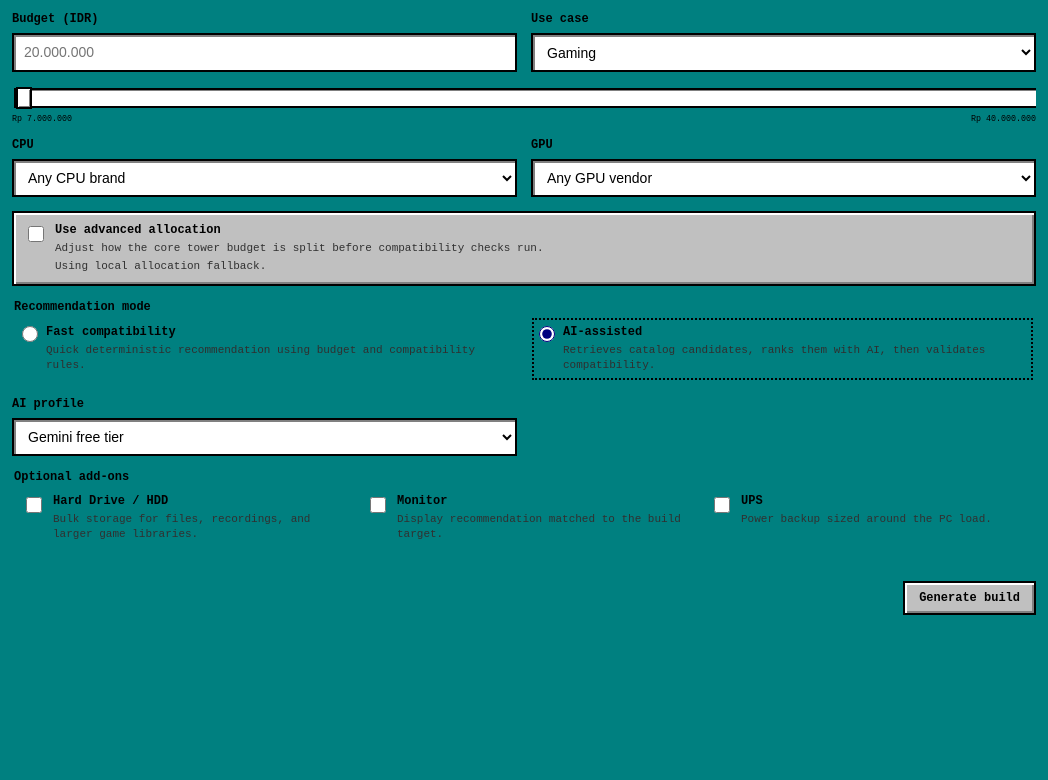
Test case: build wizard › uses one generate action and shows AI profile only in AI-assisted mode
Expected: the button "Generate build" is shown, left=903, top=581, right=1036, bottom=615
Expected: the dropdown labelled "AI profile" is shown, left=12, top=418, right=517, bottom=456
Click the radio button labelled "Fast compatibility" at {"x": 30, "y": 334}, box left=22, top=326, right=38, bottom=342
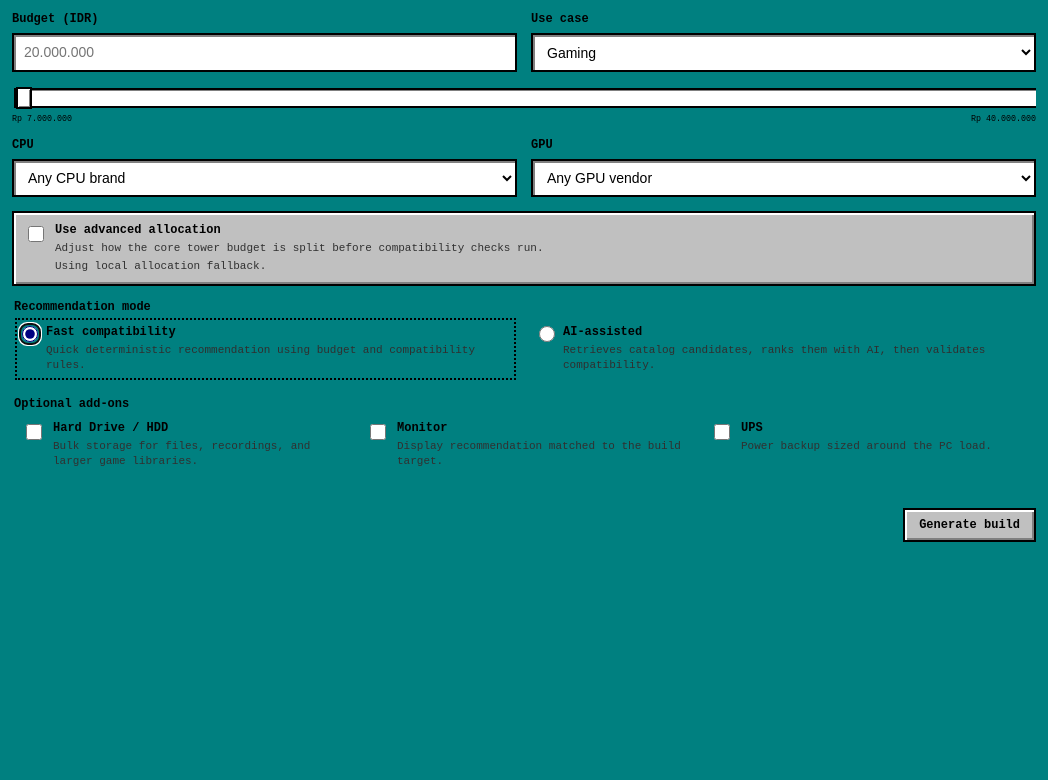
Now the label labelled "AI profile" is gone
Click the radio button labelled "AI-assisted" at {"x": 547, "y": 334}, box left=539, top=326, right=555, bottom=342
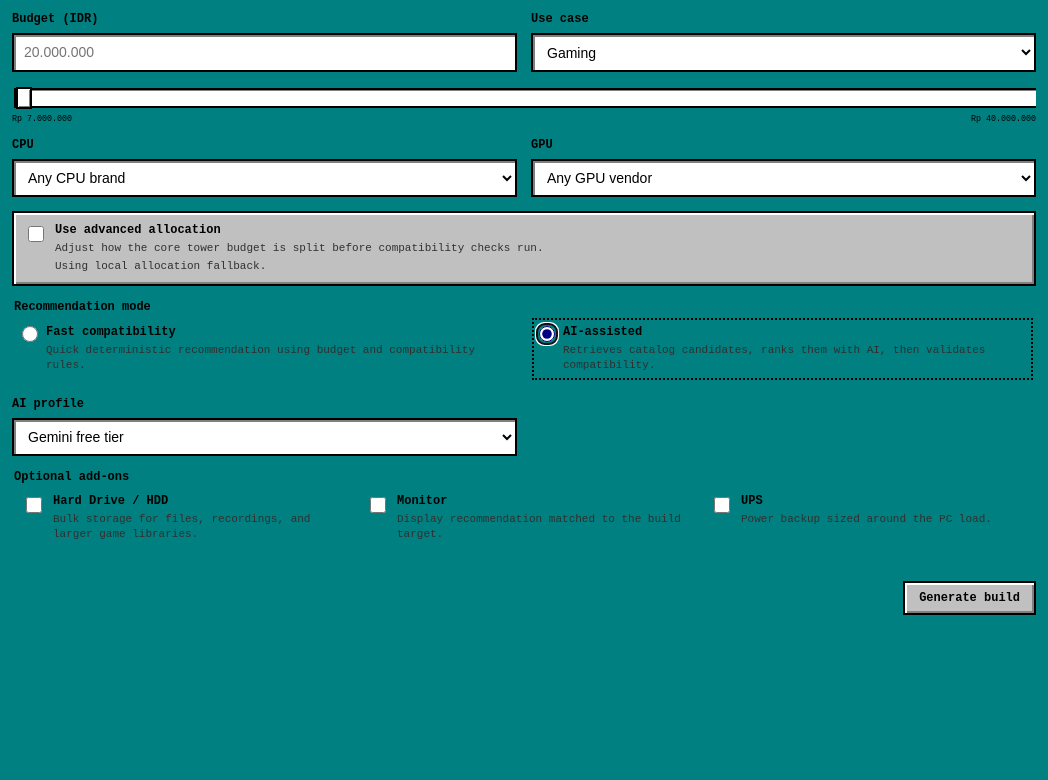
Now the dropdown labelled "AI profile" is shown, box left=12, top=418, right=517, bottom=456
